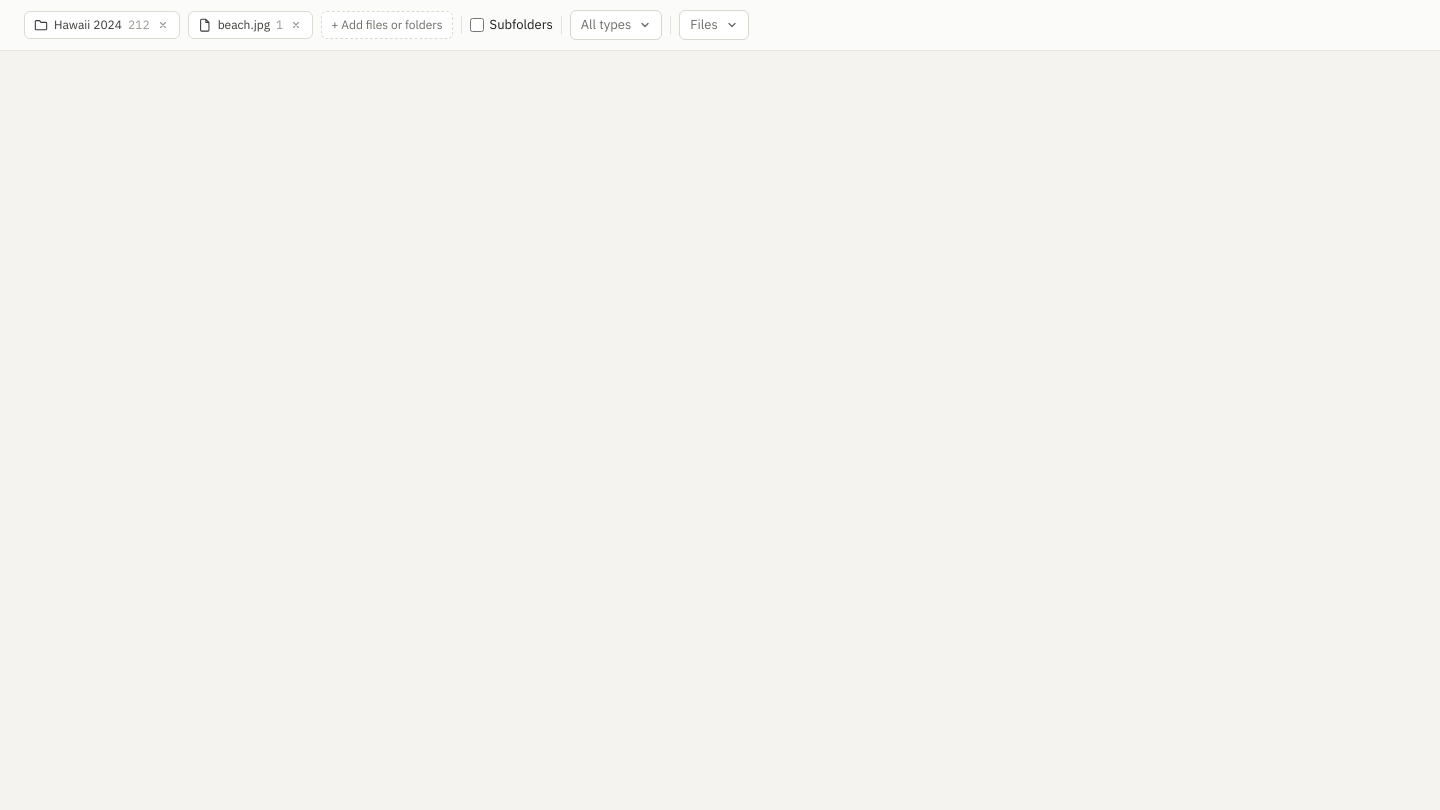
Test case: FilesStrip › closes the add menu on an outside mouse-down
Click the button "+ Add files or folders" at (387, 25), box [321,11,453,39]
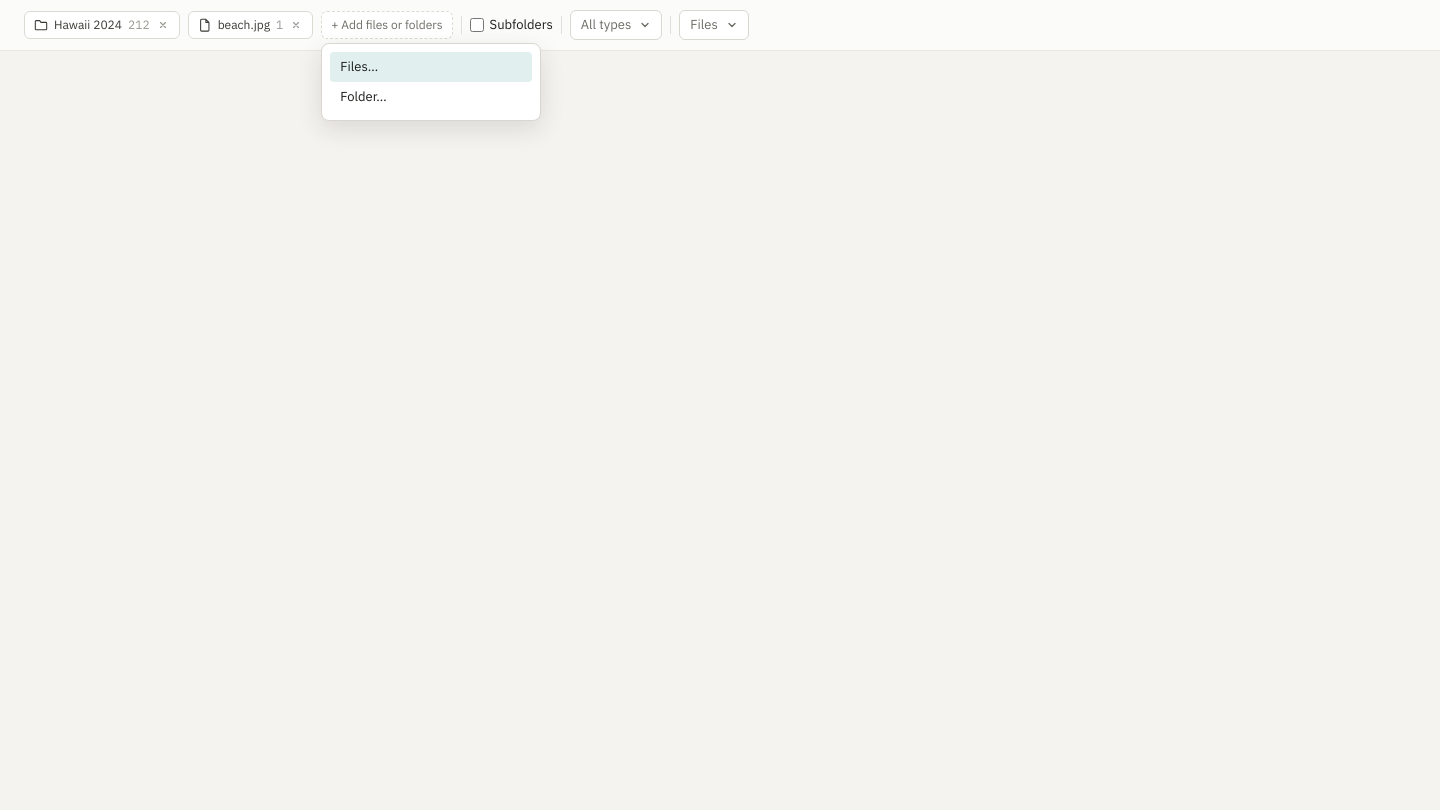
Expected: the menu is shown, [321,43,541,121]
Click the element that starts with "Hawaii 2024" at (720, 405), box [0,0,1439,809]
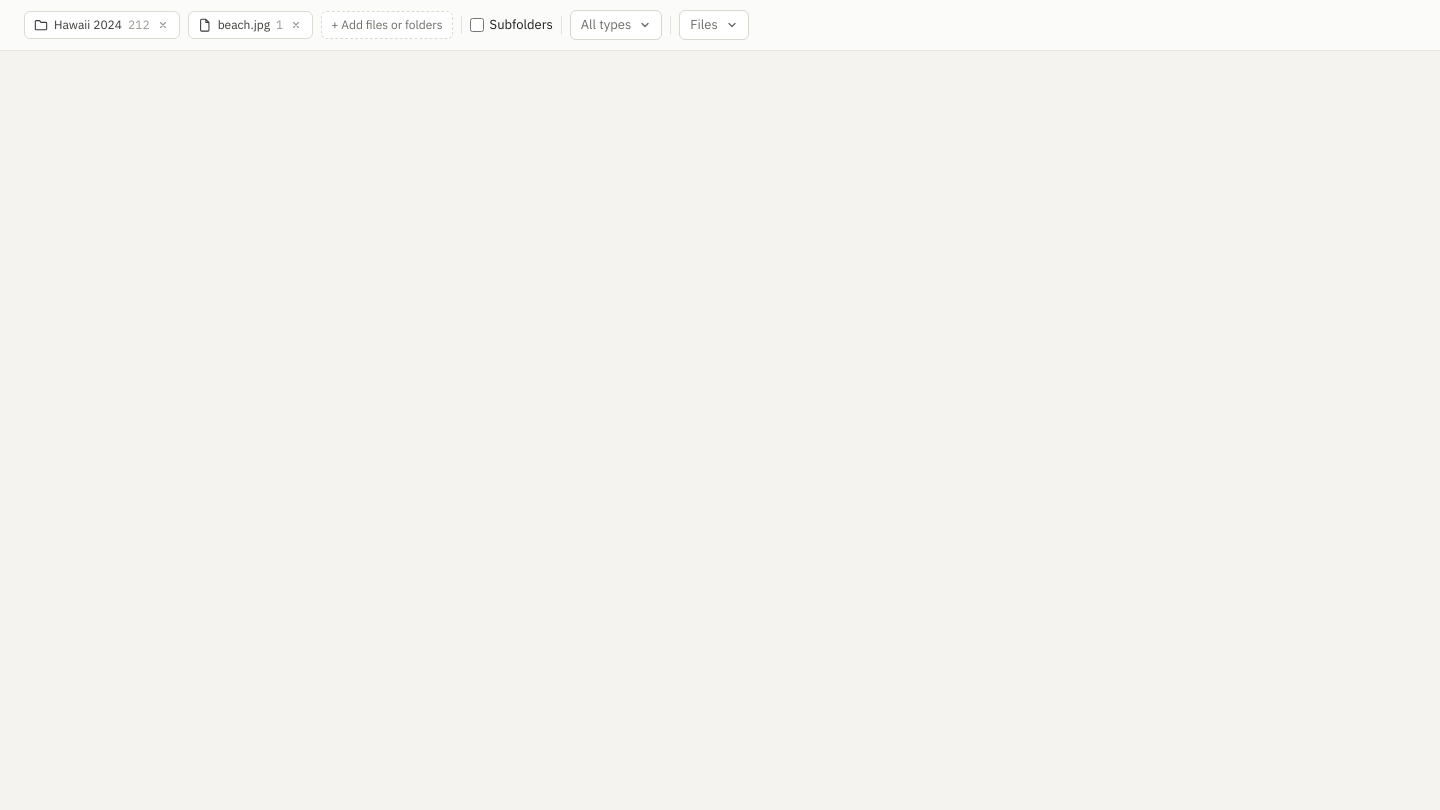
Expected: the menu is gone
